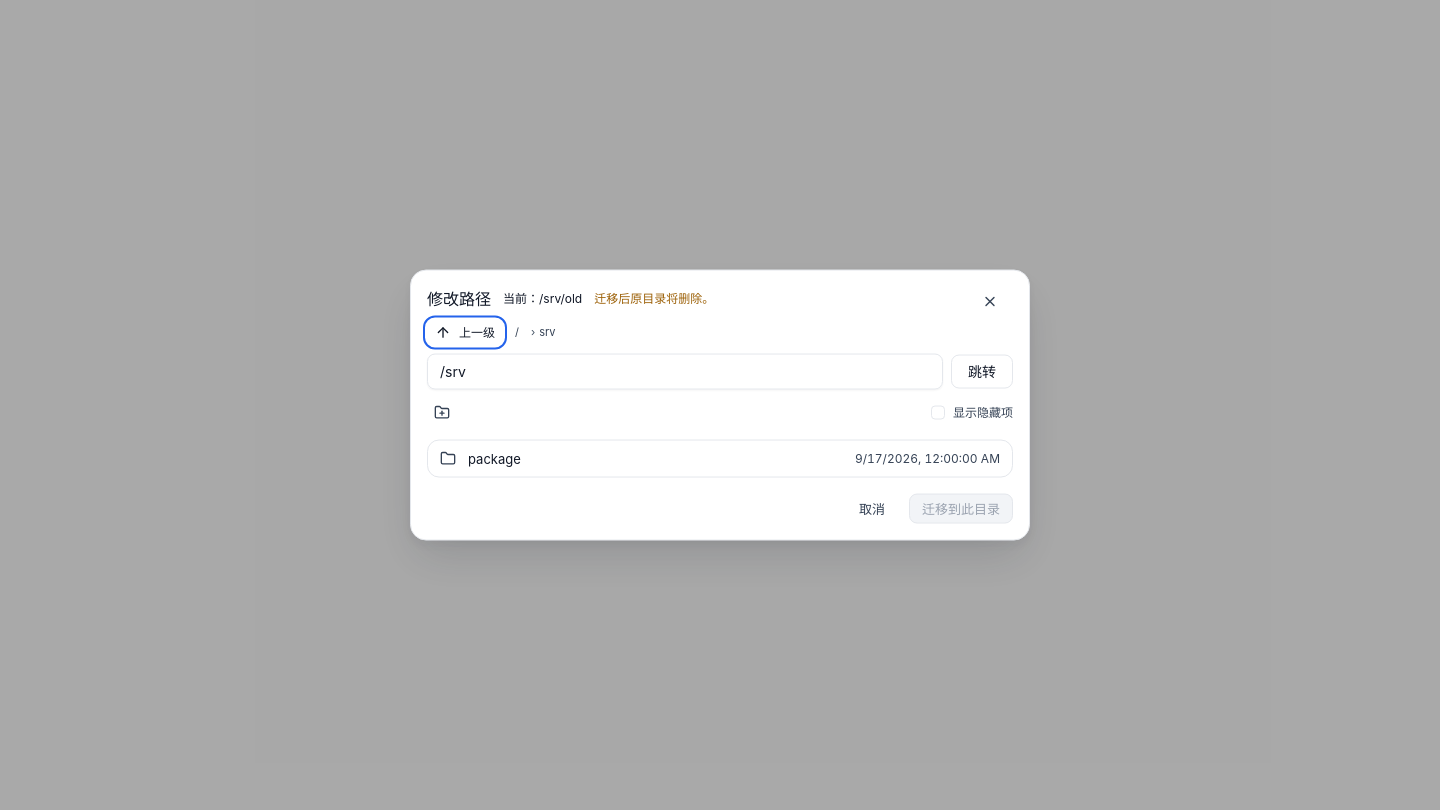
成功但旧目录没删净时转③类处置界面
The width and height of the screenshot is (1440, 810).
What coordinates should you click on to do the following:
click the button "package"
I would click on:
 (494, 458)
Its box is [440,448,843,468].
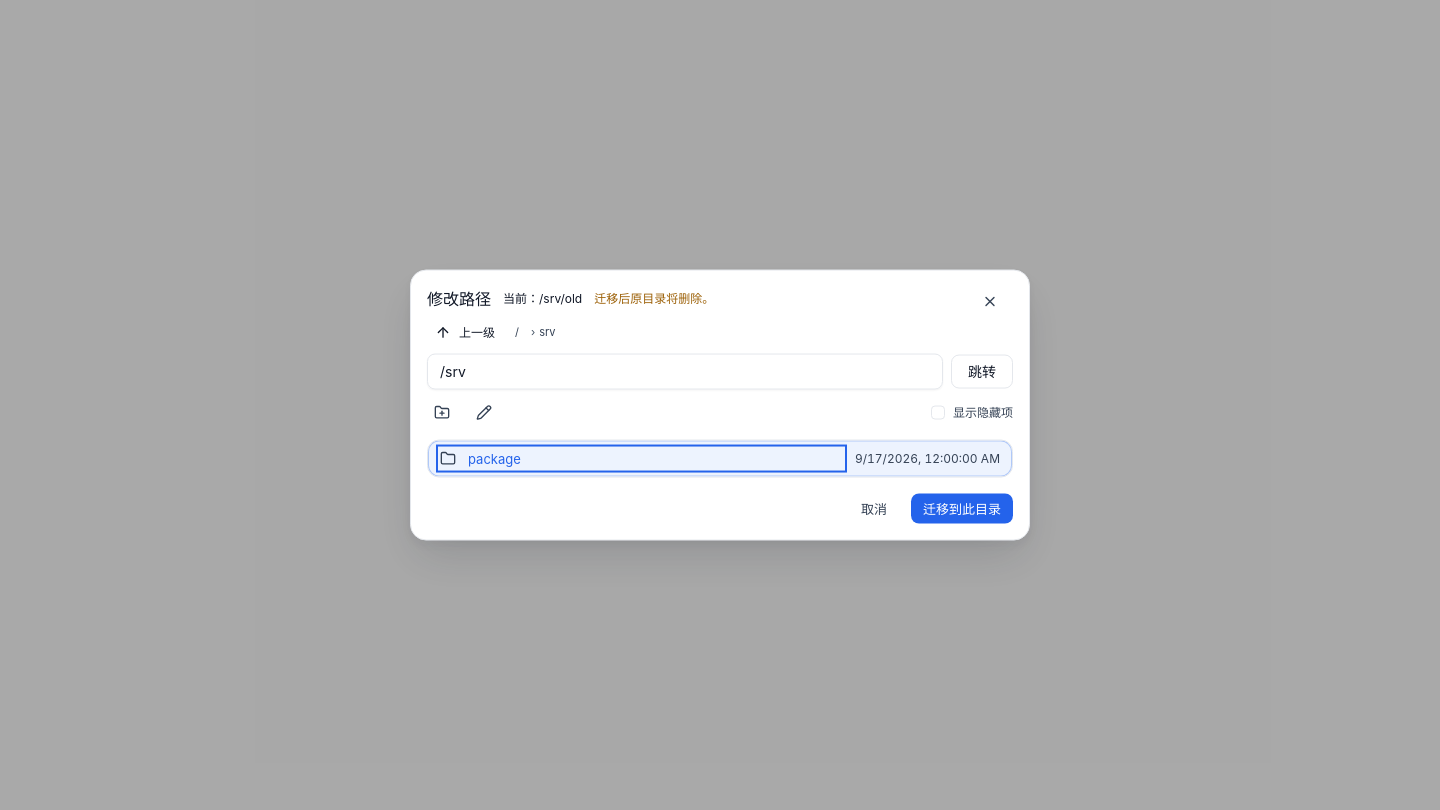
What coordinates should you click on to do the following:
click the button "迁移到此目录"
I would click on:
 (962, 508)
Its box is [911,494,1013,524].
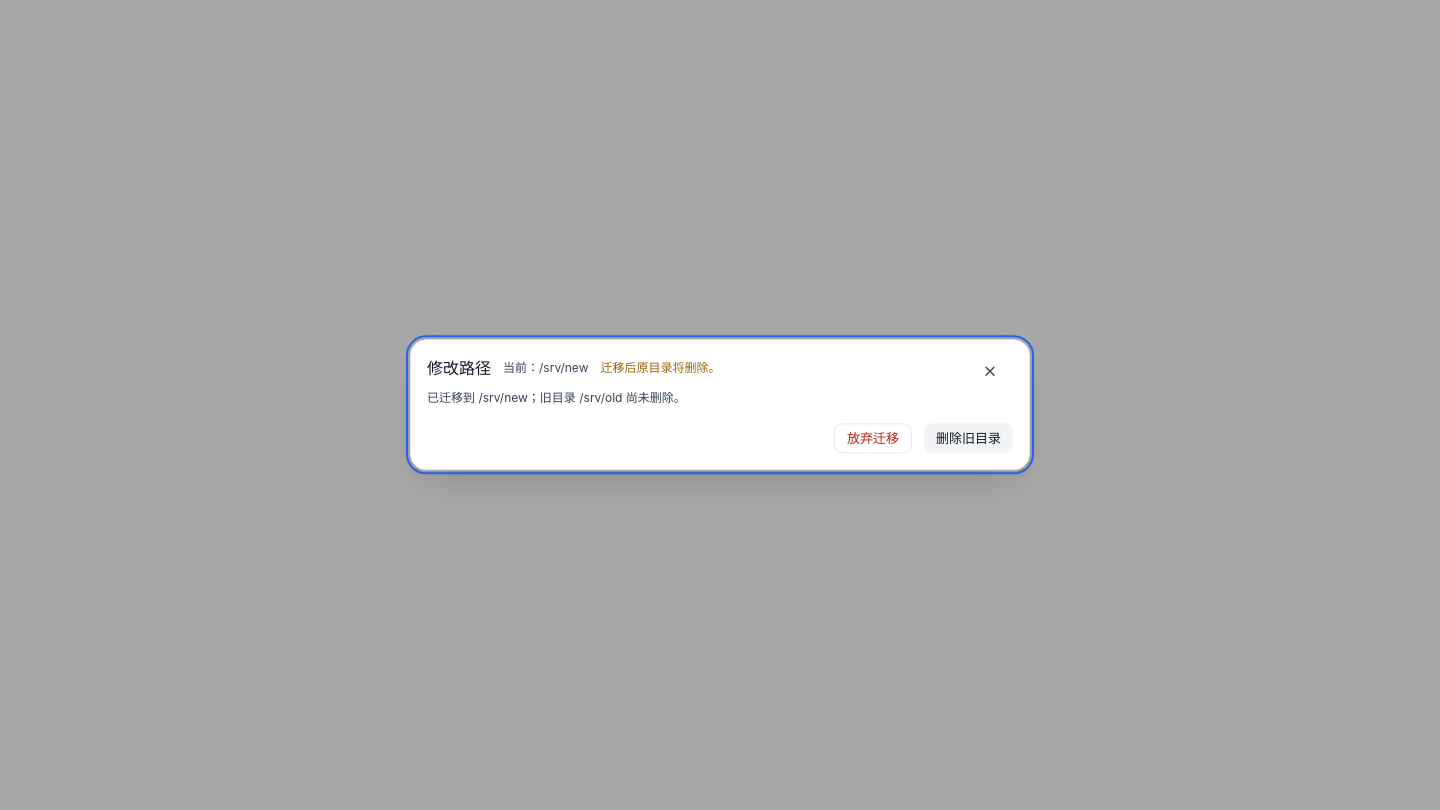
Expected: the text "已迁移到 /srv/new；旧目录 /srv/old 尚未删除。" is shown, [427,390,686,405]
Expected: the button "删除旧目录" is enabled, [924,424,1013,454]
